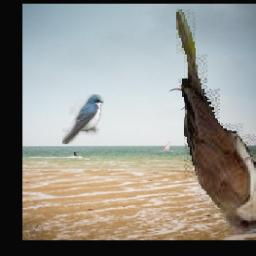Cuckoo: (176, 7, 256, 233)
Swallow: (61, 94, 103, 144)
